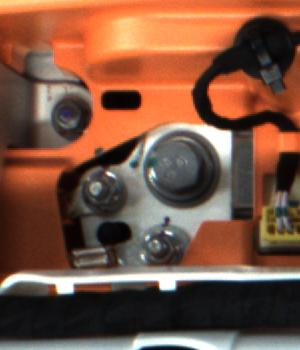nut_b: (134, 132, 225, 211)
